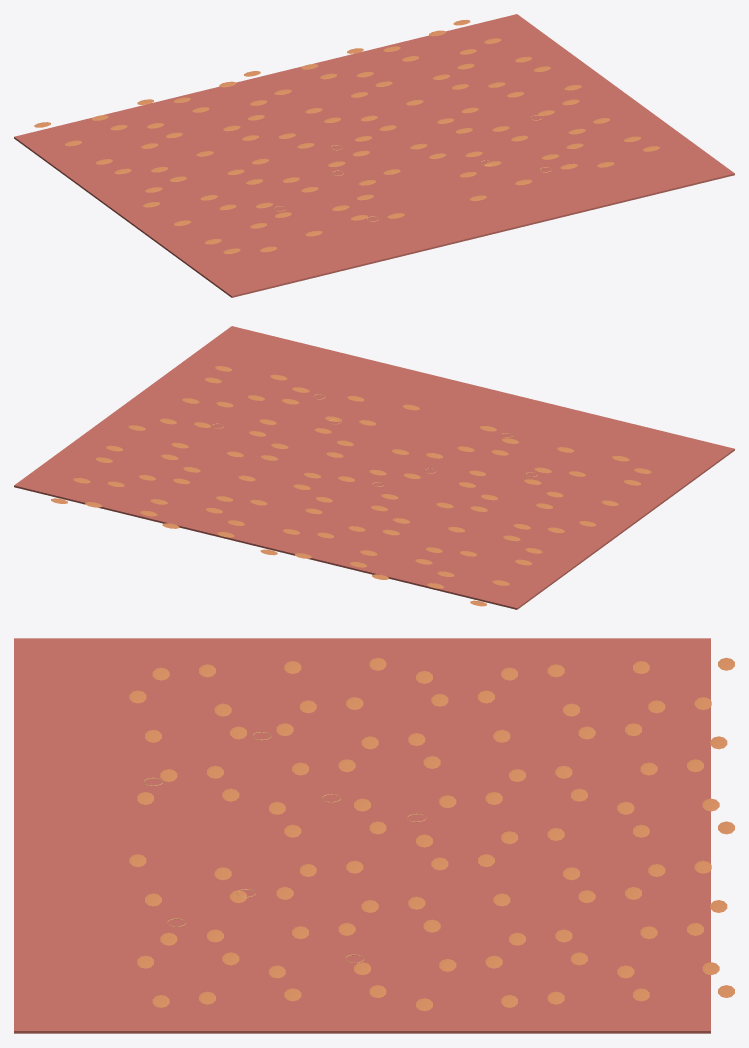
File: lago_lava.glb
3 views of the same model, one above another, from view 1: azimuth 30°, elevation 25°; view 2: azimuth 150°, elevation 25°; view 3: azimuth 270°, elevation 25° (orthographic). The views are drawn at different scales.
Parts seen in each view (by area): view 1: lago_lava; view 2: lago_lava; view 3: lago_lava.
Part boxes in pixels (<box>): lago_lava: <box>14,14,734,297</box>; lago_lava: <box>14,326,734,609</box>; lago_lava: <box>14,638,734,1033</box>.
Bounding box in the file's own units: 120 × 0.475 × 93.09.
